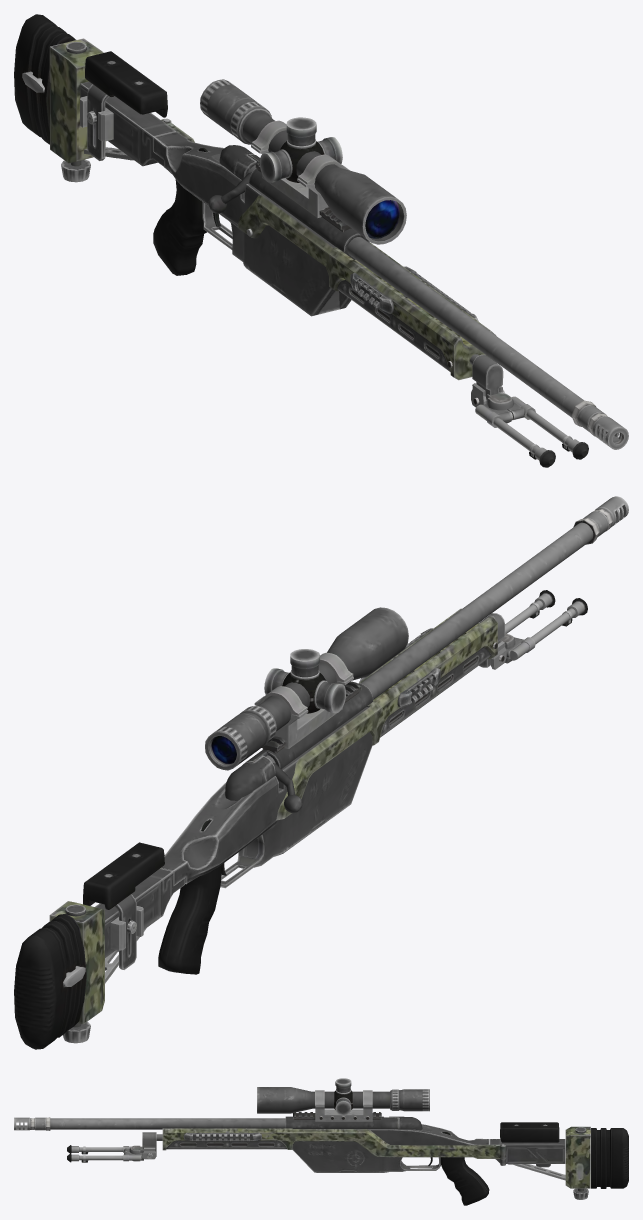
The model's file is ssg08.glb.
3 views of the same model, one above another, from view 1: azimuth 30°, elevation 25°; view 2: azimuth 150°, elevation 25°; view 3: azimuth 270°, elevation 25° (orthographic). The views are drawn at different scales.
Parts seen in each view (by area): view 1: Object_2, Object_3; view 2: Object_2, Object_3; view 3: Object_2, Object_3.
Part boxes in pixels (x1,y1,x2,y2): Object_2: (14,14,628,467); Object_3: (274,134,334,182); Object_2: (14,496,628,1049); Object_3: (272,665,331,713); Object_2: (14,1078,628,1205); Object_3: (334,1087,352,1109).
Bounding box in the file's own units: 3.71 × 10.79 × 48.98.
Materials: 1 (1 with a texture image).
